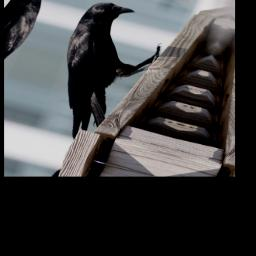Crow: (29, 0, 176, 150)
